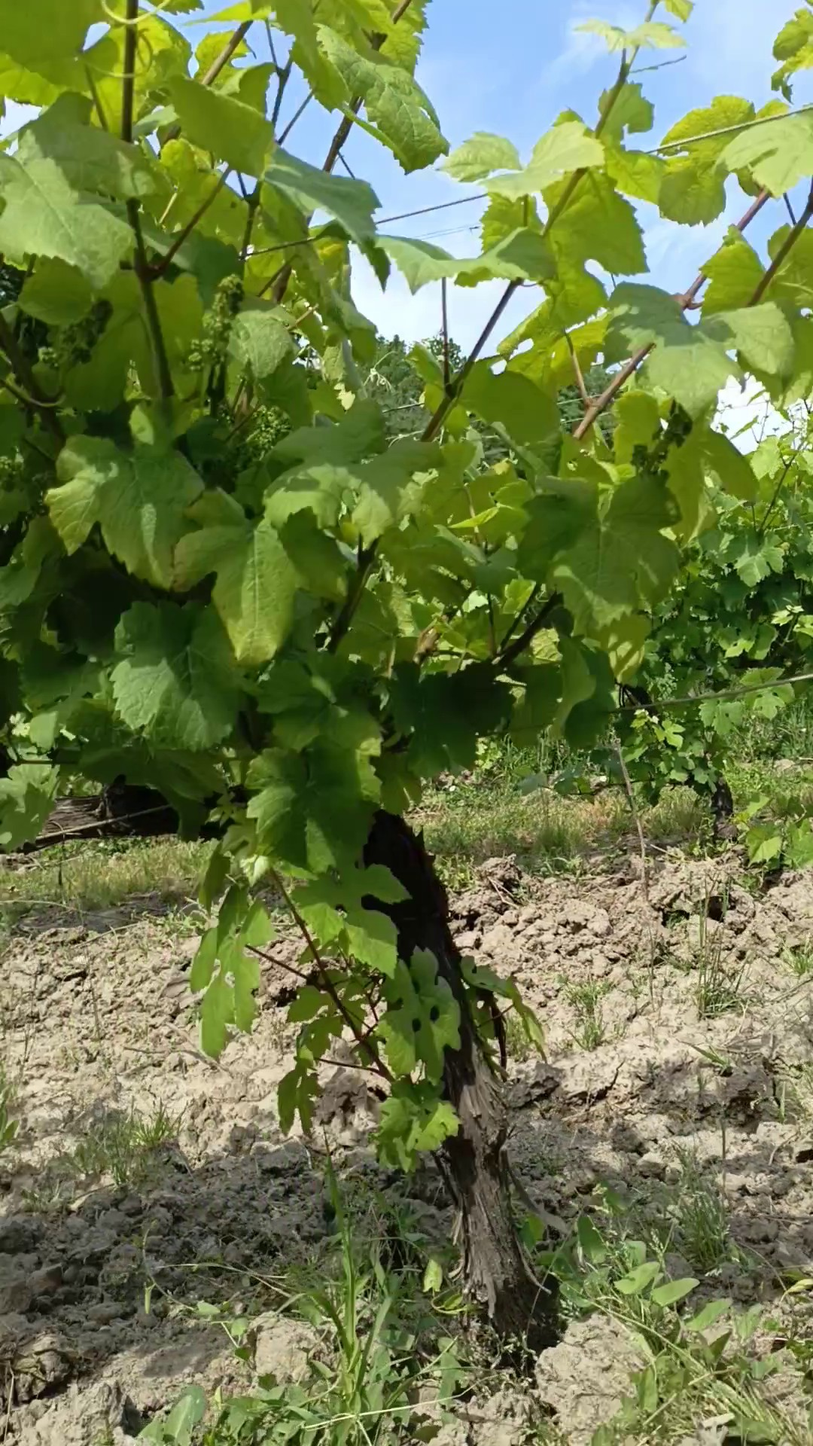vine_trunk: (364, 810, 556, 1348)
